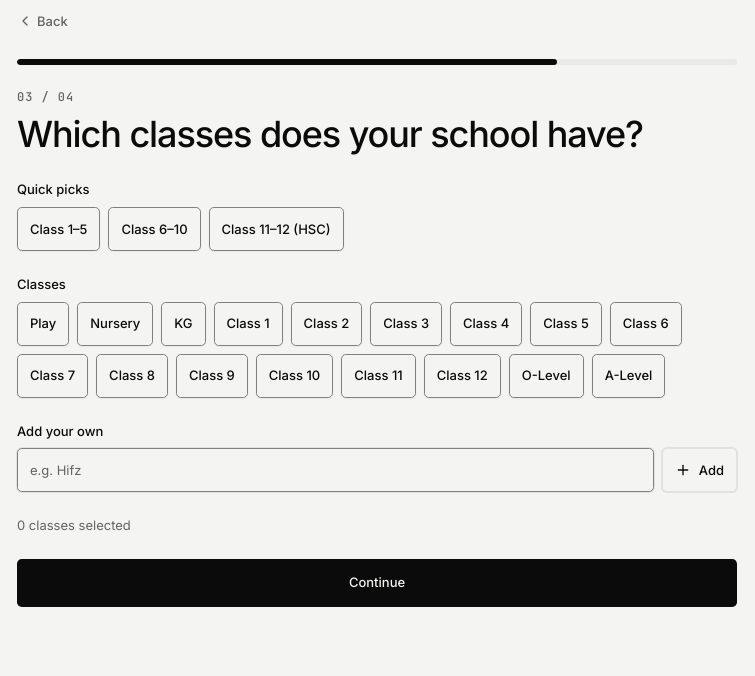
Test: step 3 — classes › a range shortcut selects the whole range and the count follows
Expected: the text "0 classes selected" is shown, [17,517,131,533]
Click the button "Class 6–10". click: (154, 229)
box: [108,207,200,251]
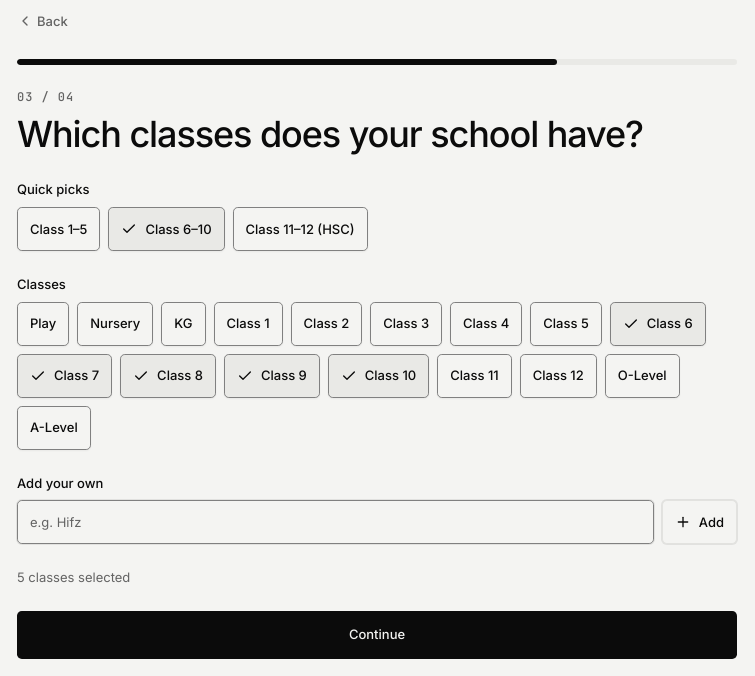
Result: the text "5 classes selected" is shown at [17,569,130,585]
